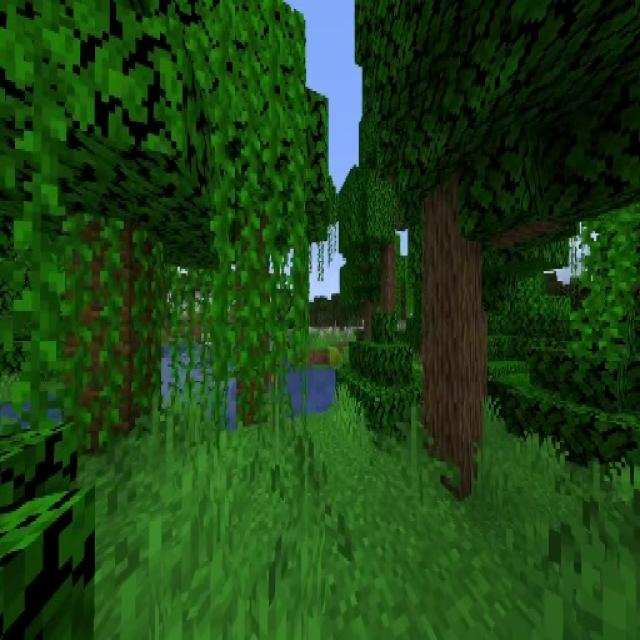jungle_log: (74, 213, 160, 442)
oak_log: (425, 201, 485, 494)
